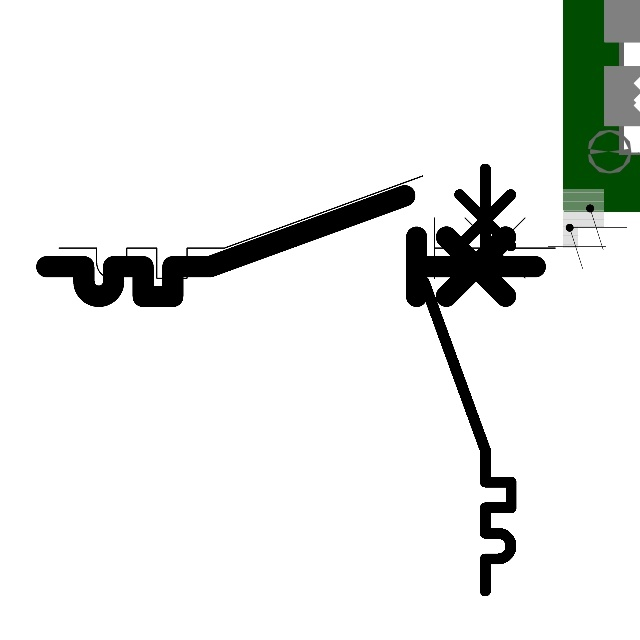interruptor_termomagnetico: (46, 163, 567, 291), (34, 183, 547, 309), (413, 158, 522, 602)
